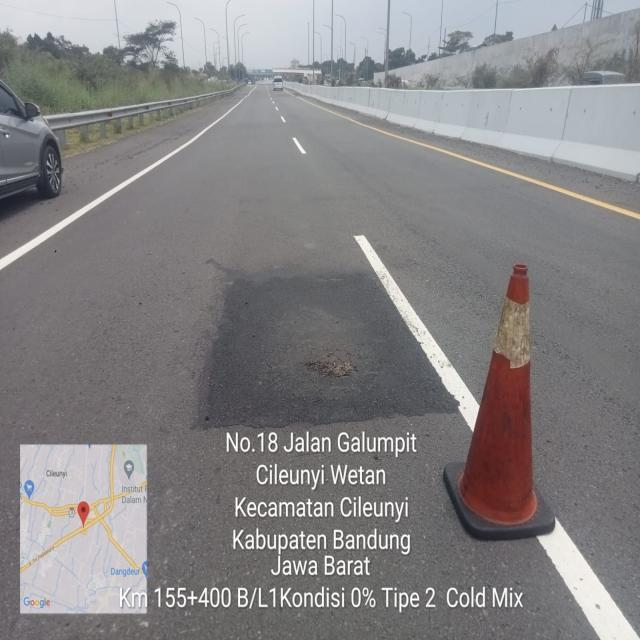Buraco: (299, 350, 362, 380)
